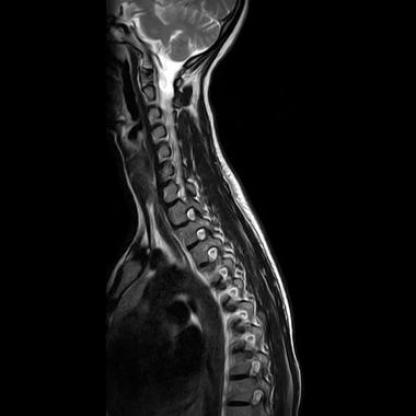Disc Bulgerotation: (152, 133, 168, 146)
